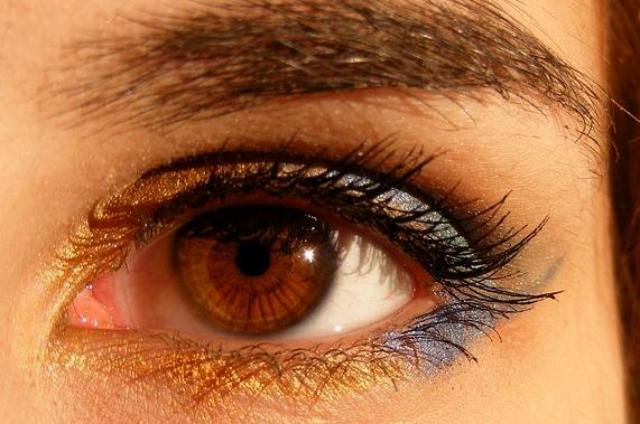eye: (168, 196, 338, 340)
